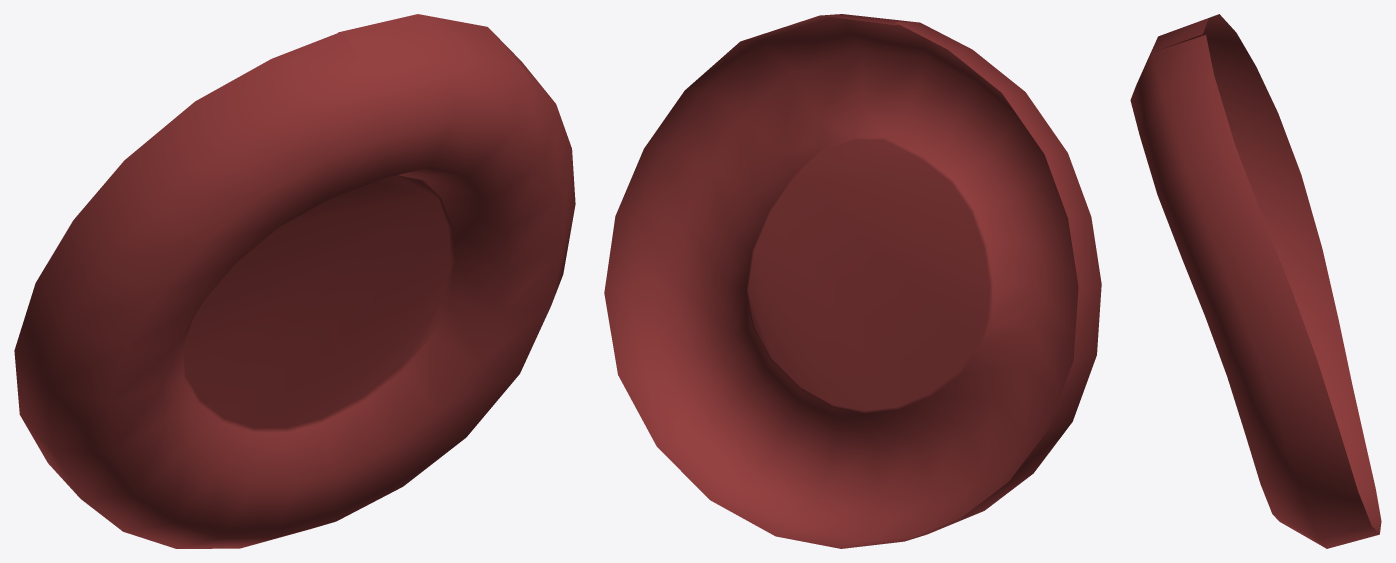
File: Mouth04.fbx
The picture shows the model from 3 angles, left to right: view 1: azimuth 30°, elevation 25°; view 2: azimuth 150°, elevation 25°; view 3: azimuth 270°, elevation 25°; orthographic projection. The views are drawn at different scales.
Visible parts, largest first — view 1: Mouth5; view 2: Mouth5; view 3: Mouth5.
Boxes of the visible parts, left/top/right/bottom form: Mouth5: left=14, top=14, right=575, bottom=548; Mouth5: left=604, top=14, right=1101, bottom=548; Mouth5: left=1130, top=14, right=1381, bottom=548.
Size of the model in its own units: 2.59 by 2.57 by 1.21.
